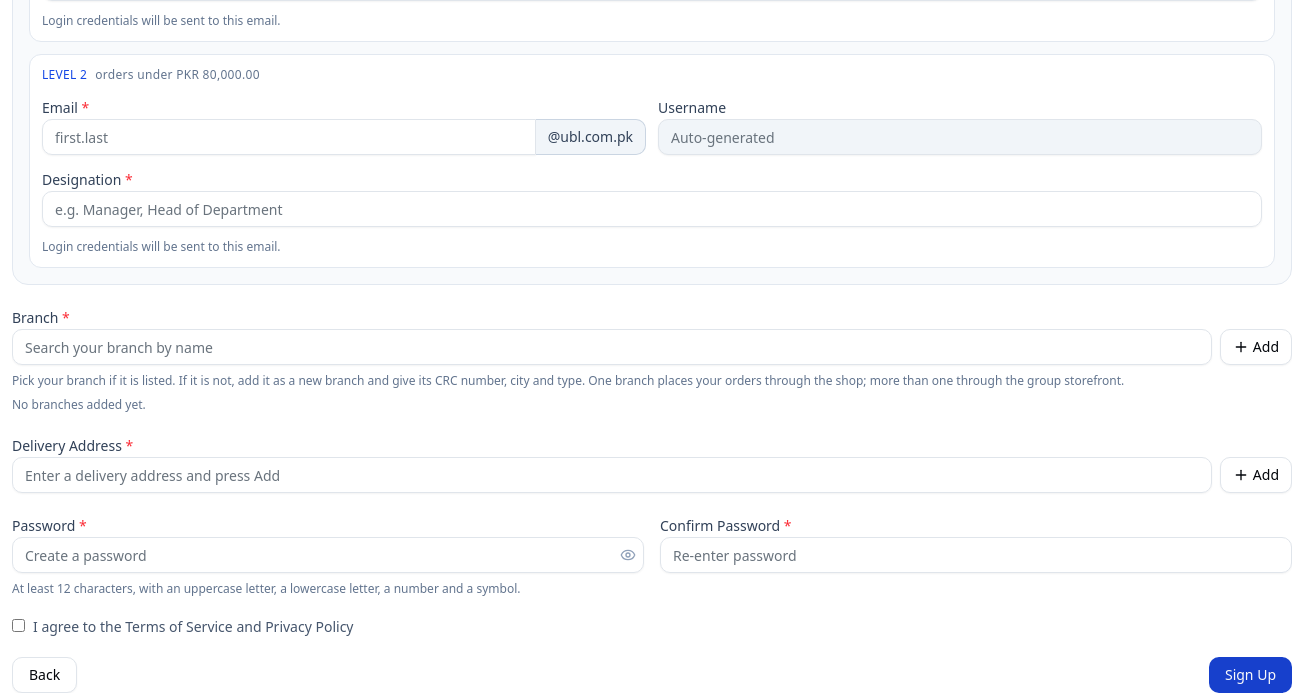
DepartmentSignupForm › suggests existing branches by name only, never by a CRC number
The width and height of the screenshot is (1304, 693).
(page scrolled)
In the field with id "signup-branch": (612, 347) left=12, top=329, right=1212, bottom=365, type "sad"
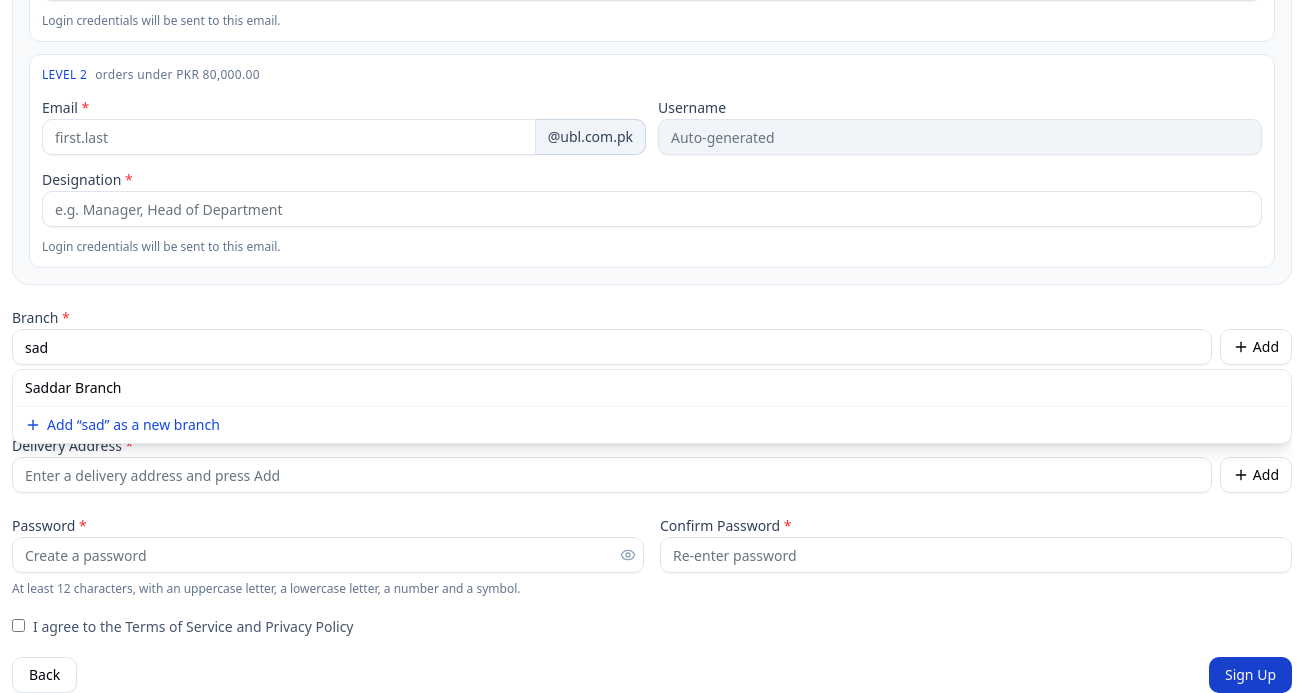
Expected: the option "Saddar Branch" is shown, left=13, top=370, right=1291, bottom=406
